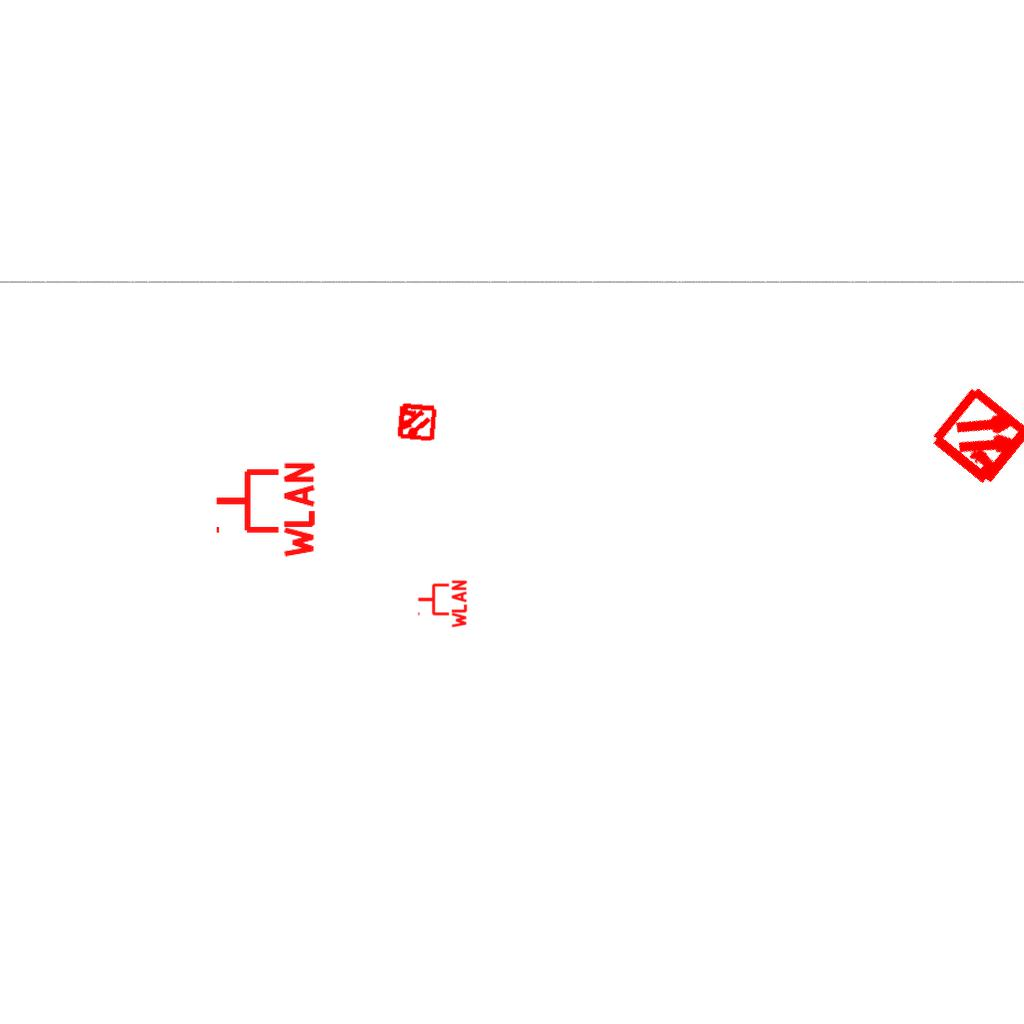OT_Multisensormelder_(Kombination_RMO_WMD): (903, 358, 1024, 517), (385, 391, 447, 453)
WLAN: (212, 458, 317, 562), (416, 578, 468, 630)
